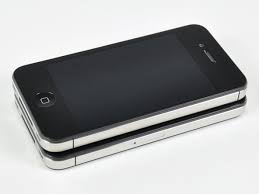iphone: (8, 24, 254, 171)
iphone4: (8, 22, 254, 169)
